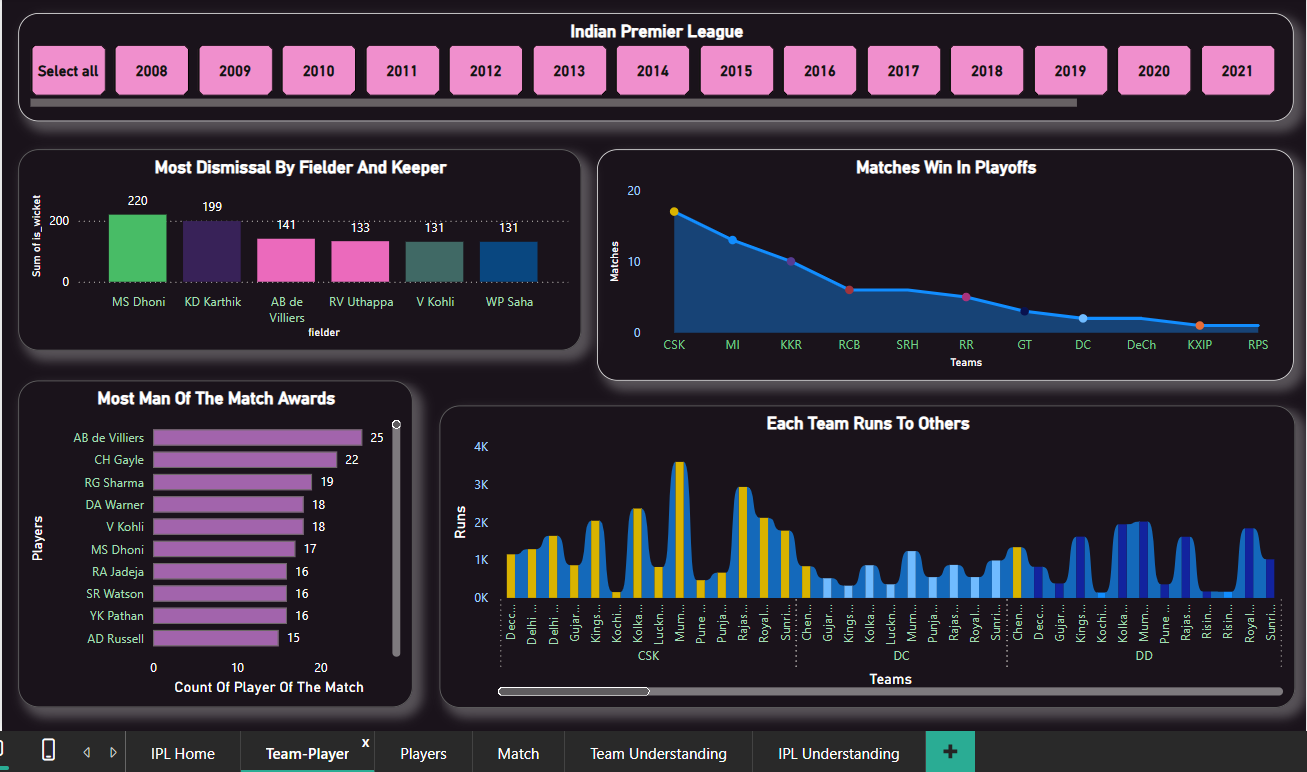

Layout of this report page (visuals, bound fields, positions):
{"tool":"powerbi","page":{"name":"Team-Player","canvas":[1280,720],"ordinal":1},"visuals":[{"type":"ribbonChart","title":"Each Team Runs To Others","fields":{"Category":["matches.team1","matches.team2"],"Y":["Sum(matches.target_runs)"]},"box":[428.9,400,840,296.7],"z":0},{"type":"barChart","title":"Most Man Of The Match Awards","fields":{"Category":["matches.player_of_match"],"Y":["CountNonNull(matches.player_of_match)"]},"box":[15.7,375.2,387.3,320.9],"z":1000},{"type":"columnChart","title":"Most Dismissal By Fielder And Keeper","fields":{"Category":["deliveries.fielder"],"Y":["Sum(deliveries.is_wicket)"]},"box":[15.7,148.4,552.5,197.9],"z":2000},{"type":"advancedSlicerVisual","title":"Indian Premier League","fields":{"Values":["matches.season"]},"box":[15.6,14.4,1252.2,106.7],"z":4000},{"type":"stackedAreaChart","title":"Matches Win In Playoffs","fields":{"Category":["matches.winner"],"Y":["CountNonNull(matches.match_type)"]},"box":[583.9,148.4,684.1,226.8],"z":5000}]}

Visuals, with their boxes on the page's 1280x720 design canvas (x1, y1, x2, y2). These are canvas units, not pixel positions in the 1307x772 screenshot, which may show the page scaled, cropped or inside an application window:
"Each Team Runs To Others" ribbonChart: Rect(429, 400, 1269, 697)
"Most Man Of The Match Awards" barChart: Rect(16, 375, 403, 696)
"Most Dismissal By Fielder And Keeper" columnChart: Rect(16, 148, 568, 346)
"Indian Premier League" advancedSlicerVisual: Rect(16, 14, 1268, 121)
"Matches Win In Playoffs" stackedAreaChart: Rect(584, 148, 1268, 375)
